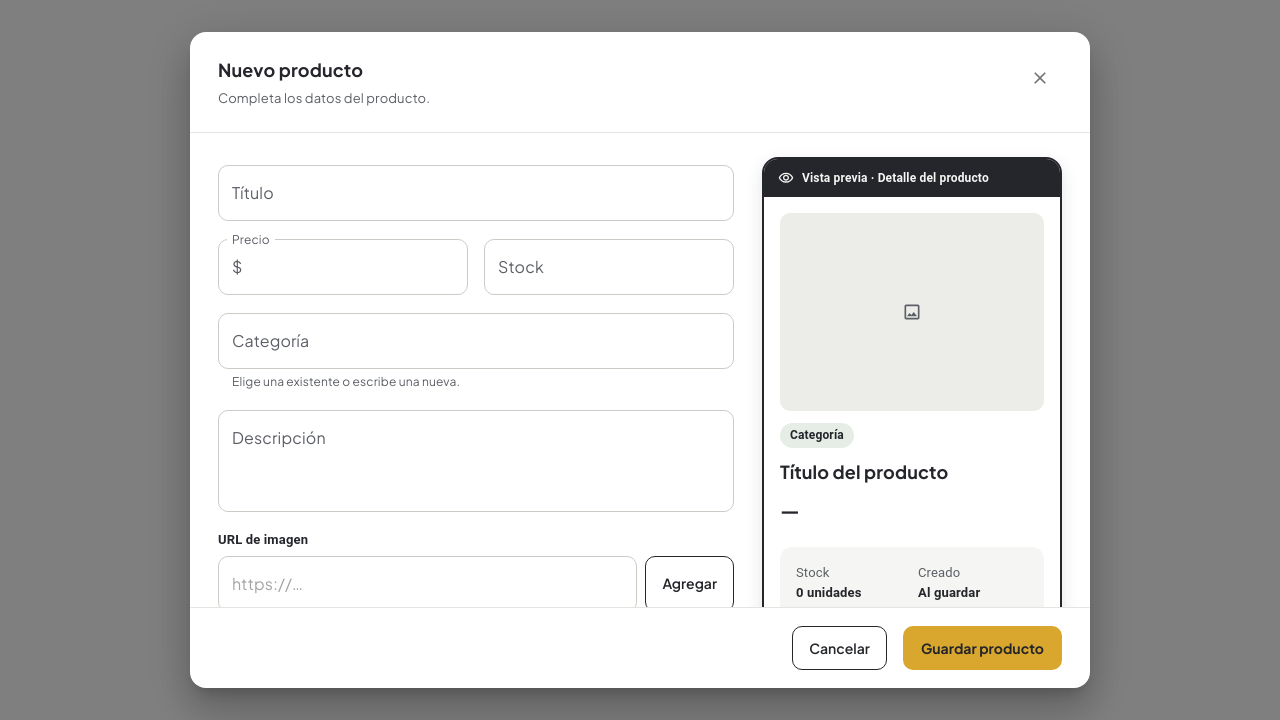
Scenario: ProductFormDialog › rejects the price -1
The image size is (1280, 720).
Step 1. Type "-1" into the field labelled "Precio" → (359, 267), box [250,239,468,295]
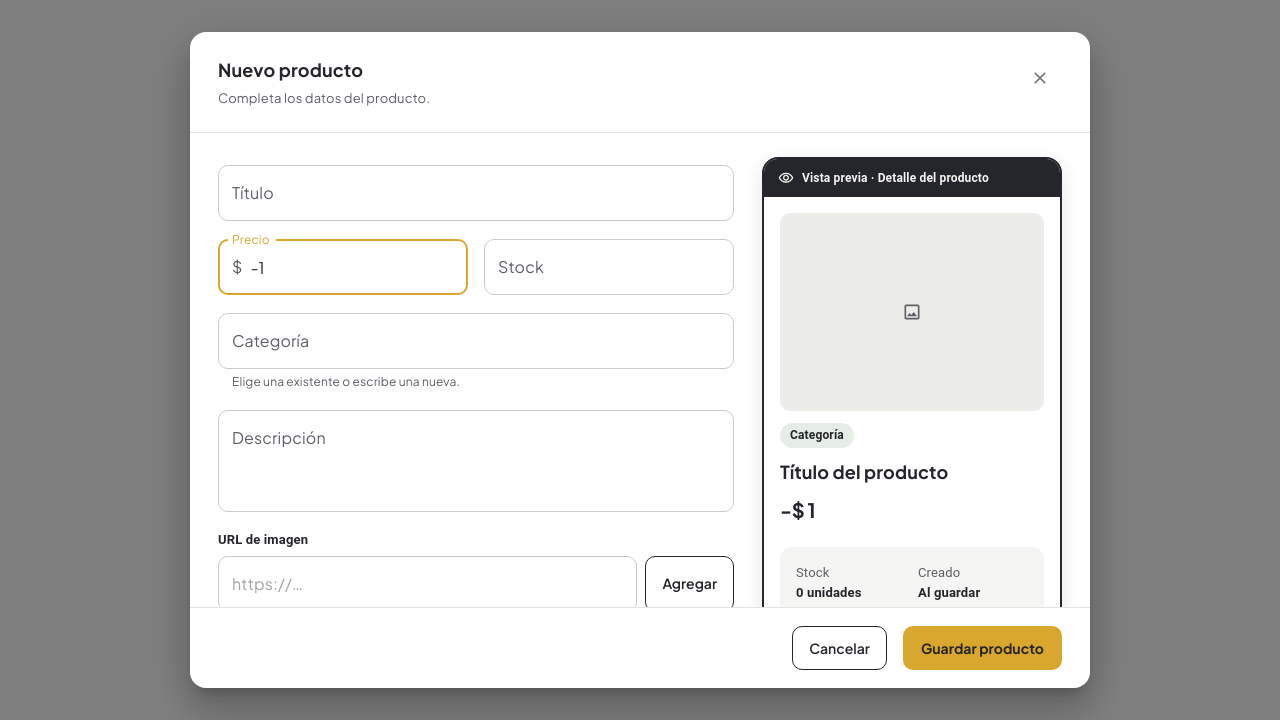
Step 2. Click the button "Guardar producto" → (982, 648), box [903,626,1062,670]
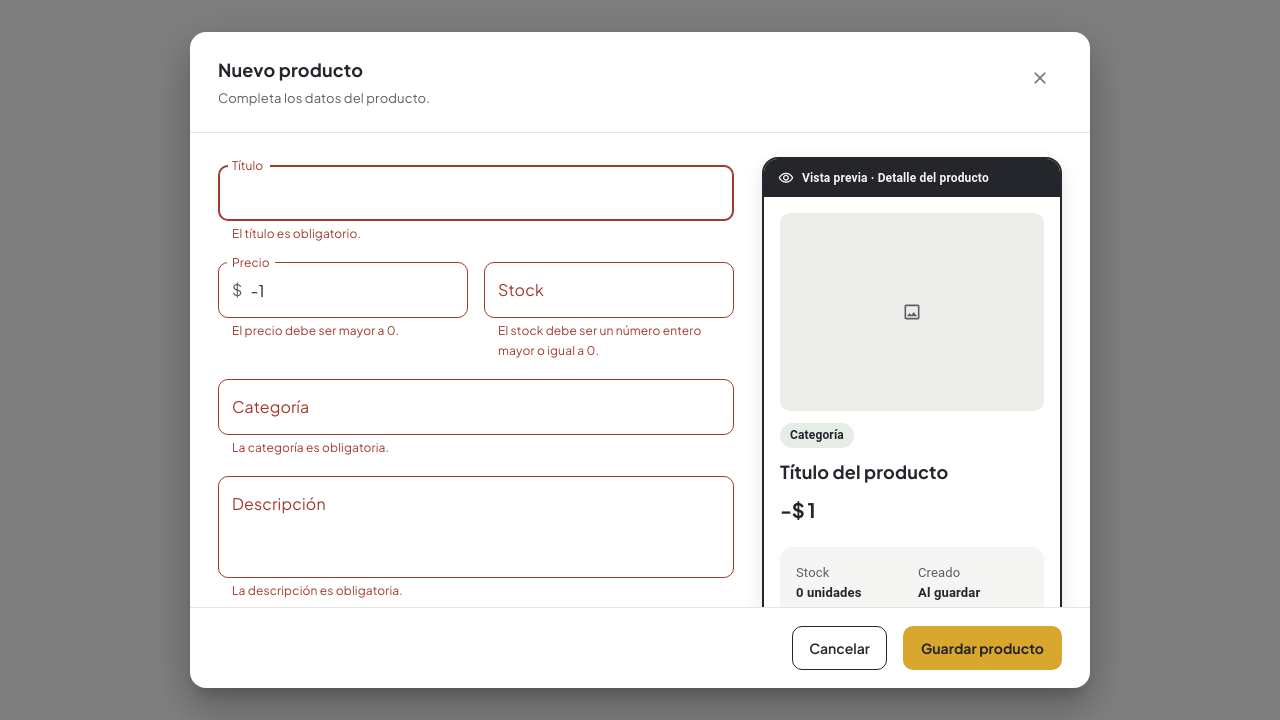
Check: the text "El precio debe ser mayor a 0." is shown, box [232,323,399,338]
